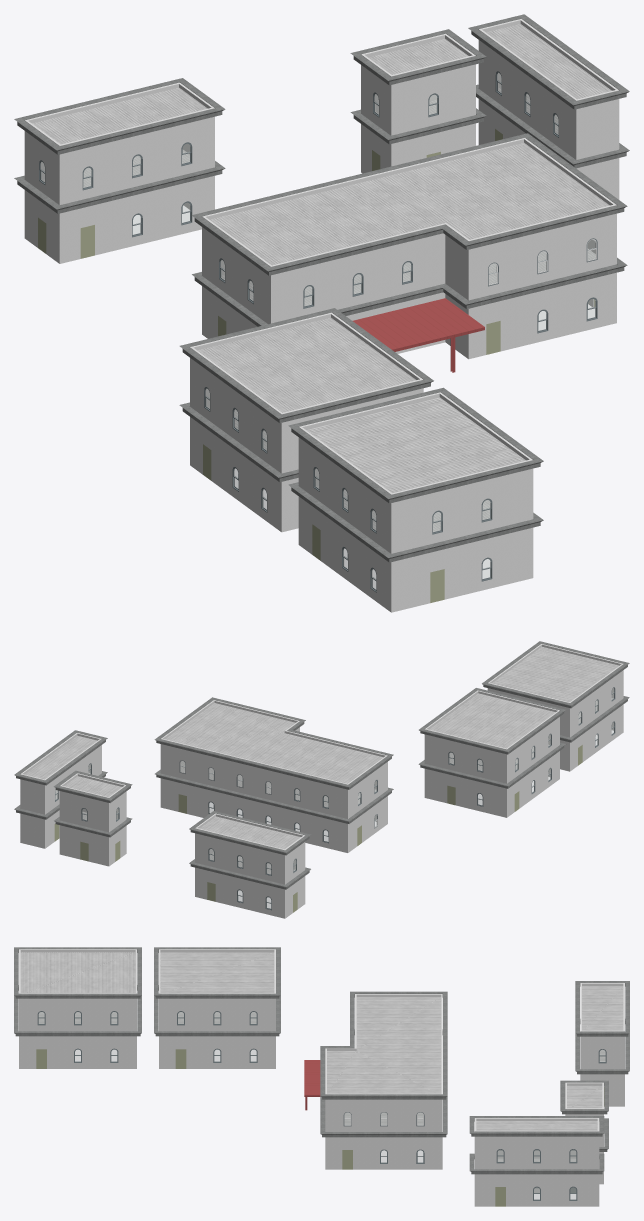
The model's file is Plan(REF)_levels(2)_window(W Arch Head 23_3-5)_wall(WAFRA WALL)_quoin(N)_cornice(Y).fbx.
3 views of the same model, one above another, from view 1: azimuth 30°, elevation 25°; view 2: azimuth 150°, elevation 25°; view 3: azimuth 270°, elevation 25° (orthographic). The views are drawn at different scales.
Parts seen in each view (by area): view 1: WAFRA Stucco - White Rough 23, WAFRA Roof - Corrugated Sheet Matte 23, Concrete - Structural, WAFRA Roof - Standing Seam Red Coat 23, Metal - Finish - Aluminum, Glass - Clear, Color - Beige; view 2: WAFRA Stucco - White Rough 23, WAFRA Roof - Corrugated Sheet Matte 23, Concrete - Structural, Metal - Finish - Aluminum, Glass - Clear, Color - Beige; view 3: WAFRA Stucco - White Rough 23, WAFRA Roof - Corrugated Sheet Matte 23, Concrete - Structural, Metal - Finish - Aluminum, Glass - Clear, Color - Beige, WAFRA Roof - Standing Seam Red Coat 23.
Part boxes in pixels (x1=…): WAFRA Stucco - White Rough 23: x1=24, y1=19, x2=619, y2=612; WAFRA Roof - Corrugated Sheet Matte 23: x1=32, y1=24, x2=611, y2=531; Concrete - Structural: x1=14, y1=14, x2=629, y2=562; WAFRA Roof - Standing Seam Red Coat 23: x1=353, y1=298, x2=484, y2=372; Metal - Finish - Aluminum: x1=39, y1=71, x2=597, y2=592; Glass - Clear: x1=41, y1=73, x2=595, y2=588; Color - Beige: x1=38, y1=129, x2=595, y2=602; WAFRA Stucco - White Rough 23: x1=20, y1=644, x2=623, y2=918; WAFRA Roof - Corrugated Sheet Matte 23: x1=24, y1=647, x2=618, y2=874; Concrete - Structural: x1=14, y1=641, x2=629, y2=889; Metal - Finish - Aluminum: x1=55, y1=687, x2=615, y2=910; Glass - Clear: x1=55, y1=688, x2=613, y2=908; Color - Beige: x1=54, y1=745, x2=582, y2=912; WAFRA Stucco - White Rough 23: x1=19, y1=949, x2=624, y2=1206; WAFRA Roof - Corrugated Sheet Matte 23: x1=20, y1=952, x2=623, y2=1161; Concrete - Structural: x1=14, y1=947, x2=629, y2=1174; Metal - Finish - Aluminum: x1=37, y1=1011, x2=606, y2=1200; Glass - Clear: x1=39, y1=1012, x2=605, y2=1199; Color - Beige: x1=36, y1=1049, x2=604, y2=1206; WAFRA Roof - Standing Seam Red Coat 23: x1=304, y1=1060, x2=320, y2=1110.
Bounding box in the file's own units: 4244 × 5930 × 800.
12 materials, 5 textured.
